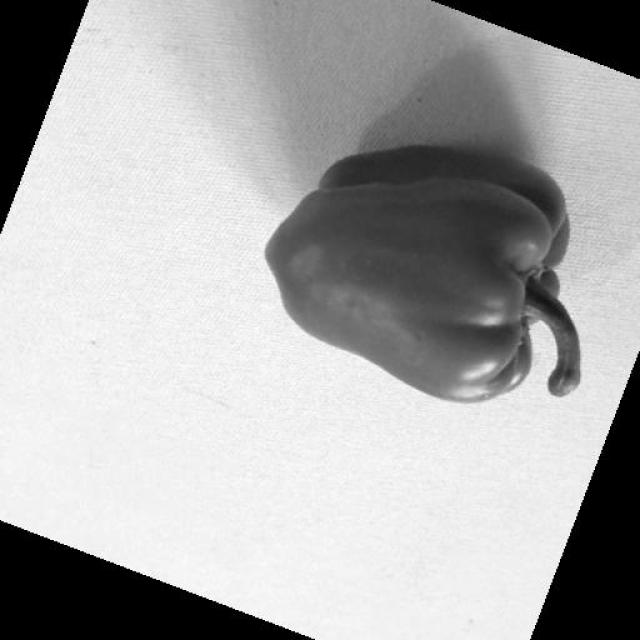Fresh_Capsicum: (243, 155, 571, 394)
